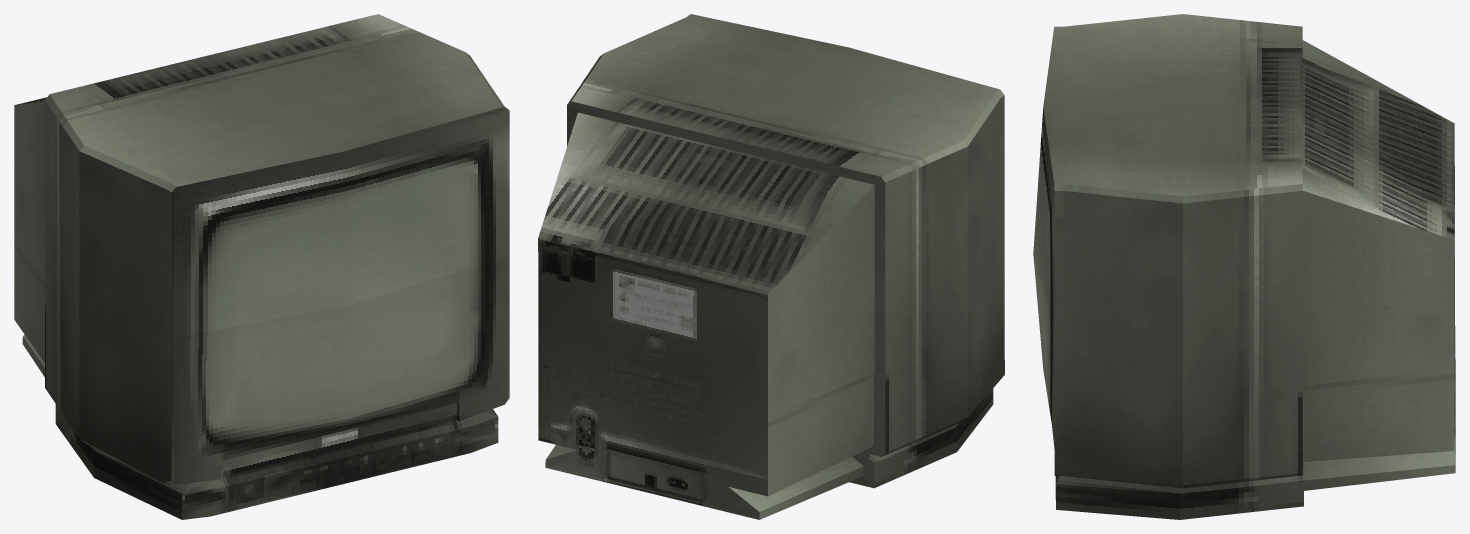
The picture shows the model from 3 angles, left to right: view 1: azimuth 30°, elevation 25°; view 2: azimuth 150°, elevation 25°; view 3: azimuth 270°, elevation 25°; orthographic projection. The views are drawn at different scales.
Parts seen in each view (by area): view 1: Cube.001; view 2: Cube.001; view 3: Cube.001.
Part boxes in pixels (x1=…): Cube.001: x1=14, y1=14, x2=509, y2=519; Cube.001: x1=538, y1=14, x2=1004, y2=519; Cube.001: x1=1033, y1=14, x2=1455, y2=519.
Bounding box in the file's own units: 0.62 × 0.5137 × 0.5919.
1 material, 1 textured.
